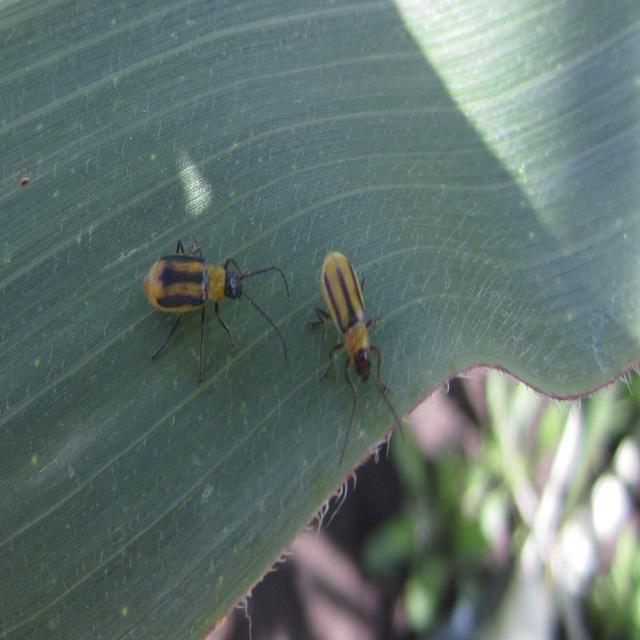trips: (141, 237, 289, 383), (307, 252, 405, 464)
